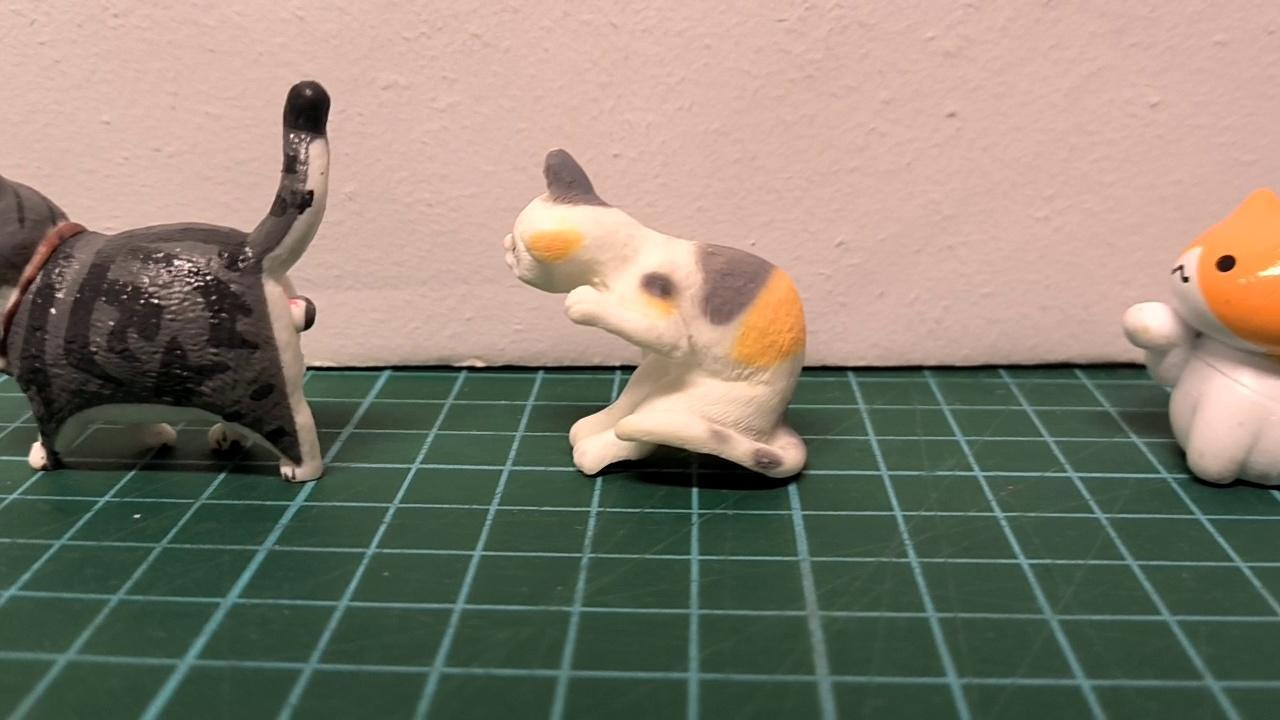pet: (496, 142, 815, 484), (1119, 179, 1280, 495)
